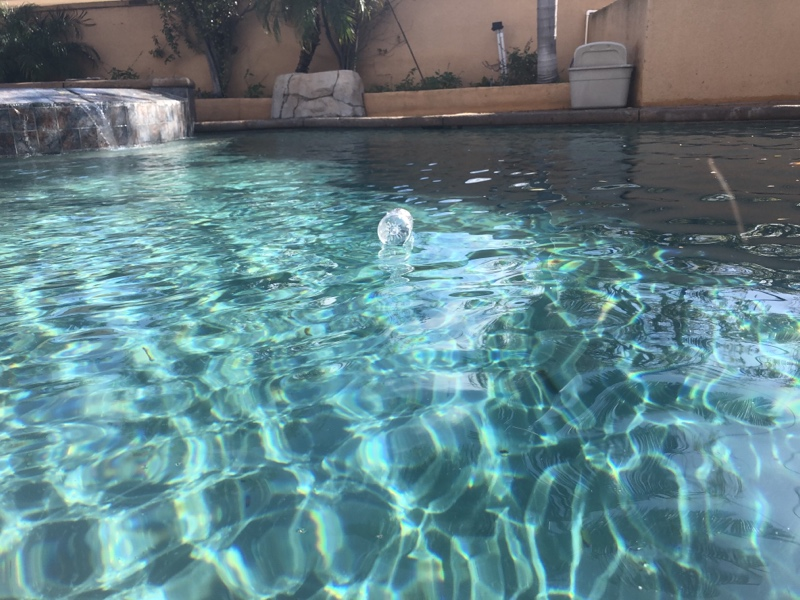Plastic Bottle: (376, 209, 414, 246)
